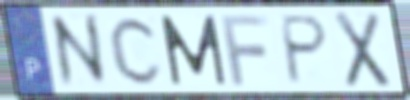C: (107, 13, 167, 87)
F: (218, 12, 271, 88)
M: (157, 13, 230, 88)
N: (46, 10, 112, 91)
P: (280, 13, 331, 87)
X: (331, 9, 393, 90)
